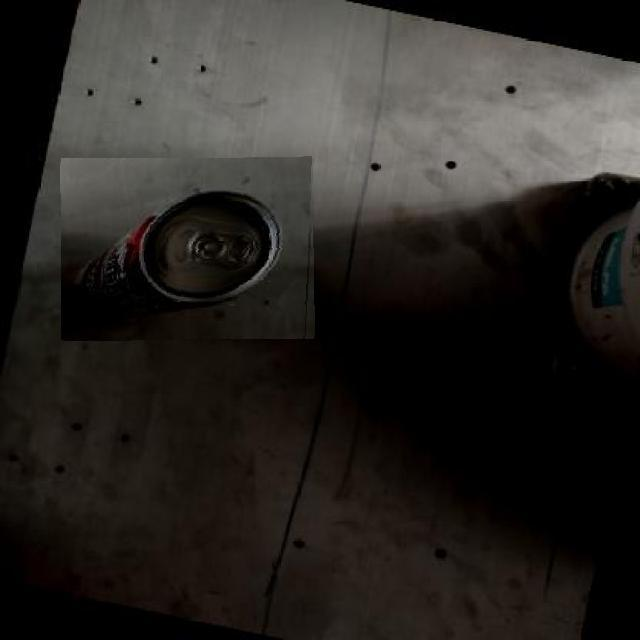recyclable: (61, 157, 316, 340)
